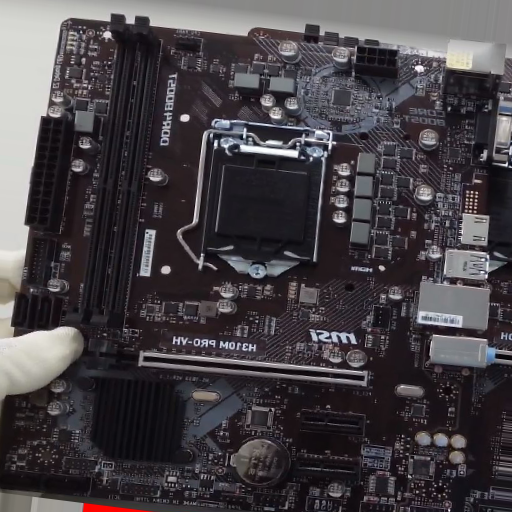CPU: (205, 119, 333, 279)
GPU: (85, 338, 369, 387)
MOTHERBOARD: (1, 22, 510, 506)
RAM: (65, 12, 162, 332)
